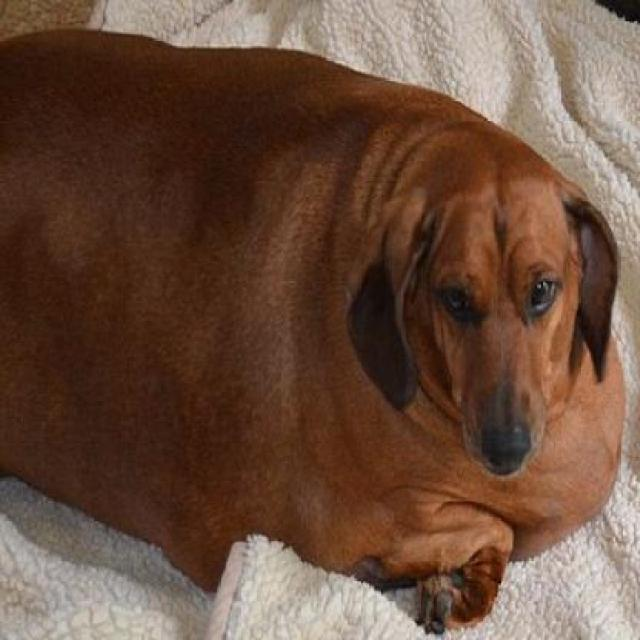Dog: (3, 24, 625, 638)
